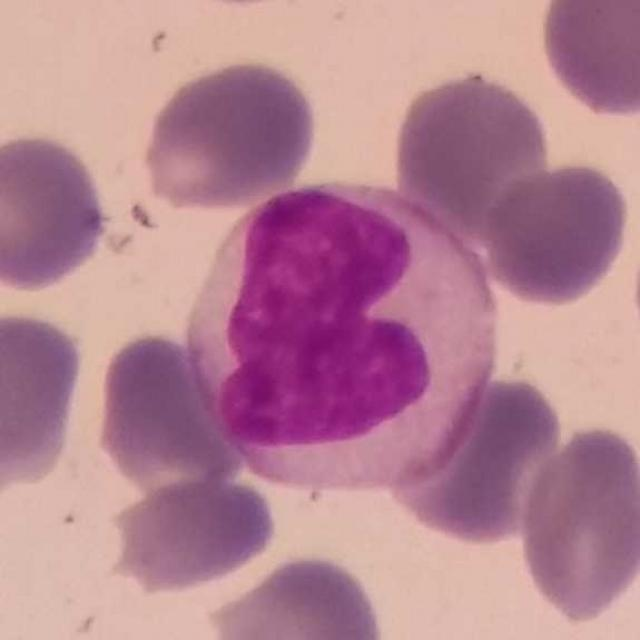Monocyte: (185, 175, 500, 498)
RBC: (383, 368, 569, 546), (136, 53, 322, 214), (88, 326, 249, 497), (388, 66, 556, 228), (513, 418, 640, 626), (479, 157, 633, 309), (100, 472, 281, 595), (0, 128, 114, 296), (0, 304, 90, 497), (202, 550, 390, 640), (535, 0, 640, 120)
